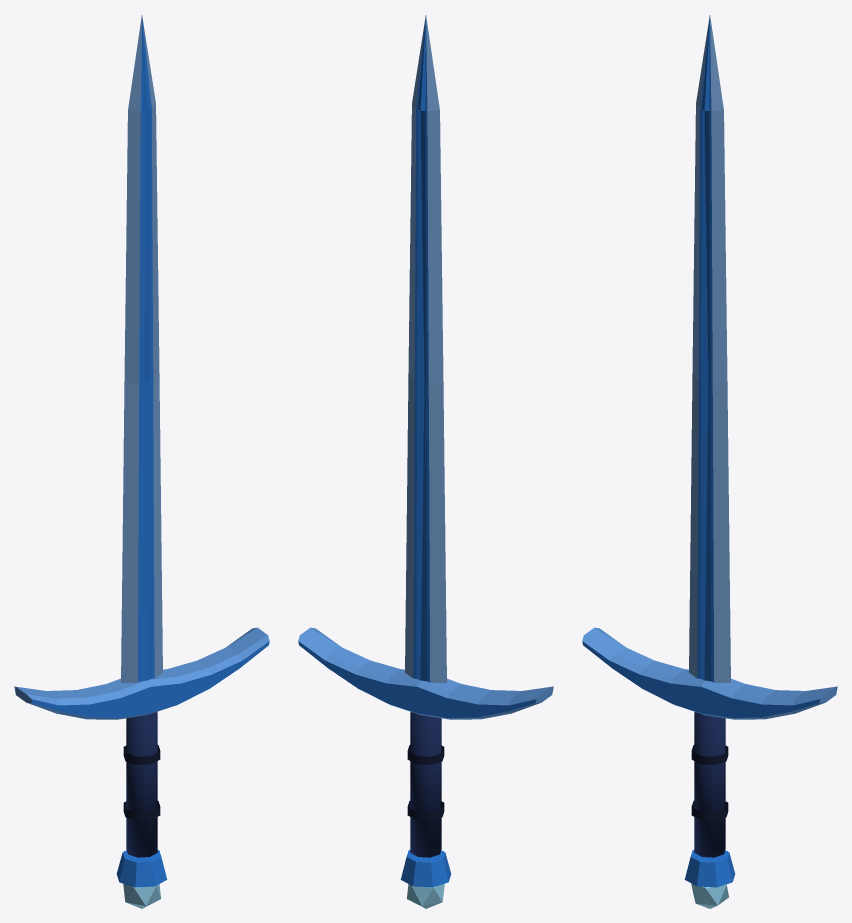
Rendered from cobalt_shortsword.glb.
3 views of the same model, side by side, from view 1: azimuth 30°, elevation 25°; view 2: azimuth 150°, elevation 25°; view 3: azimuth 330°, elevation 25° (orthographic).
Parts seen in each view (by area): view 1: cobalt_shortsword_v0; view 2: cobalt_shortsword_v0; view 3: cobalt_shortsword_v0.
Part boxes in pixels (box(x1,y1,x2,y2)): cobalt_shortsword_v0: box(14, 15, 269, 908); cobalt_shortsword_v0: box(298, 15, 553, 908); cobalt_shortsword_v0: box(582, 15, 837, 908).
Bounding box in the file's own units: 0.3623 × 1.28 × 0.068.
